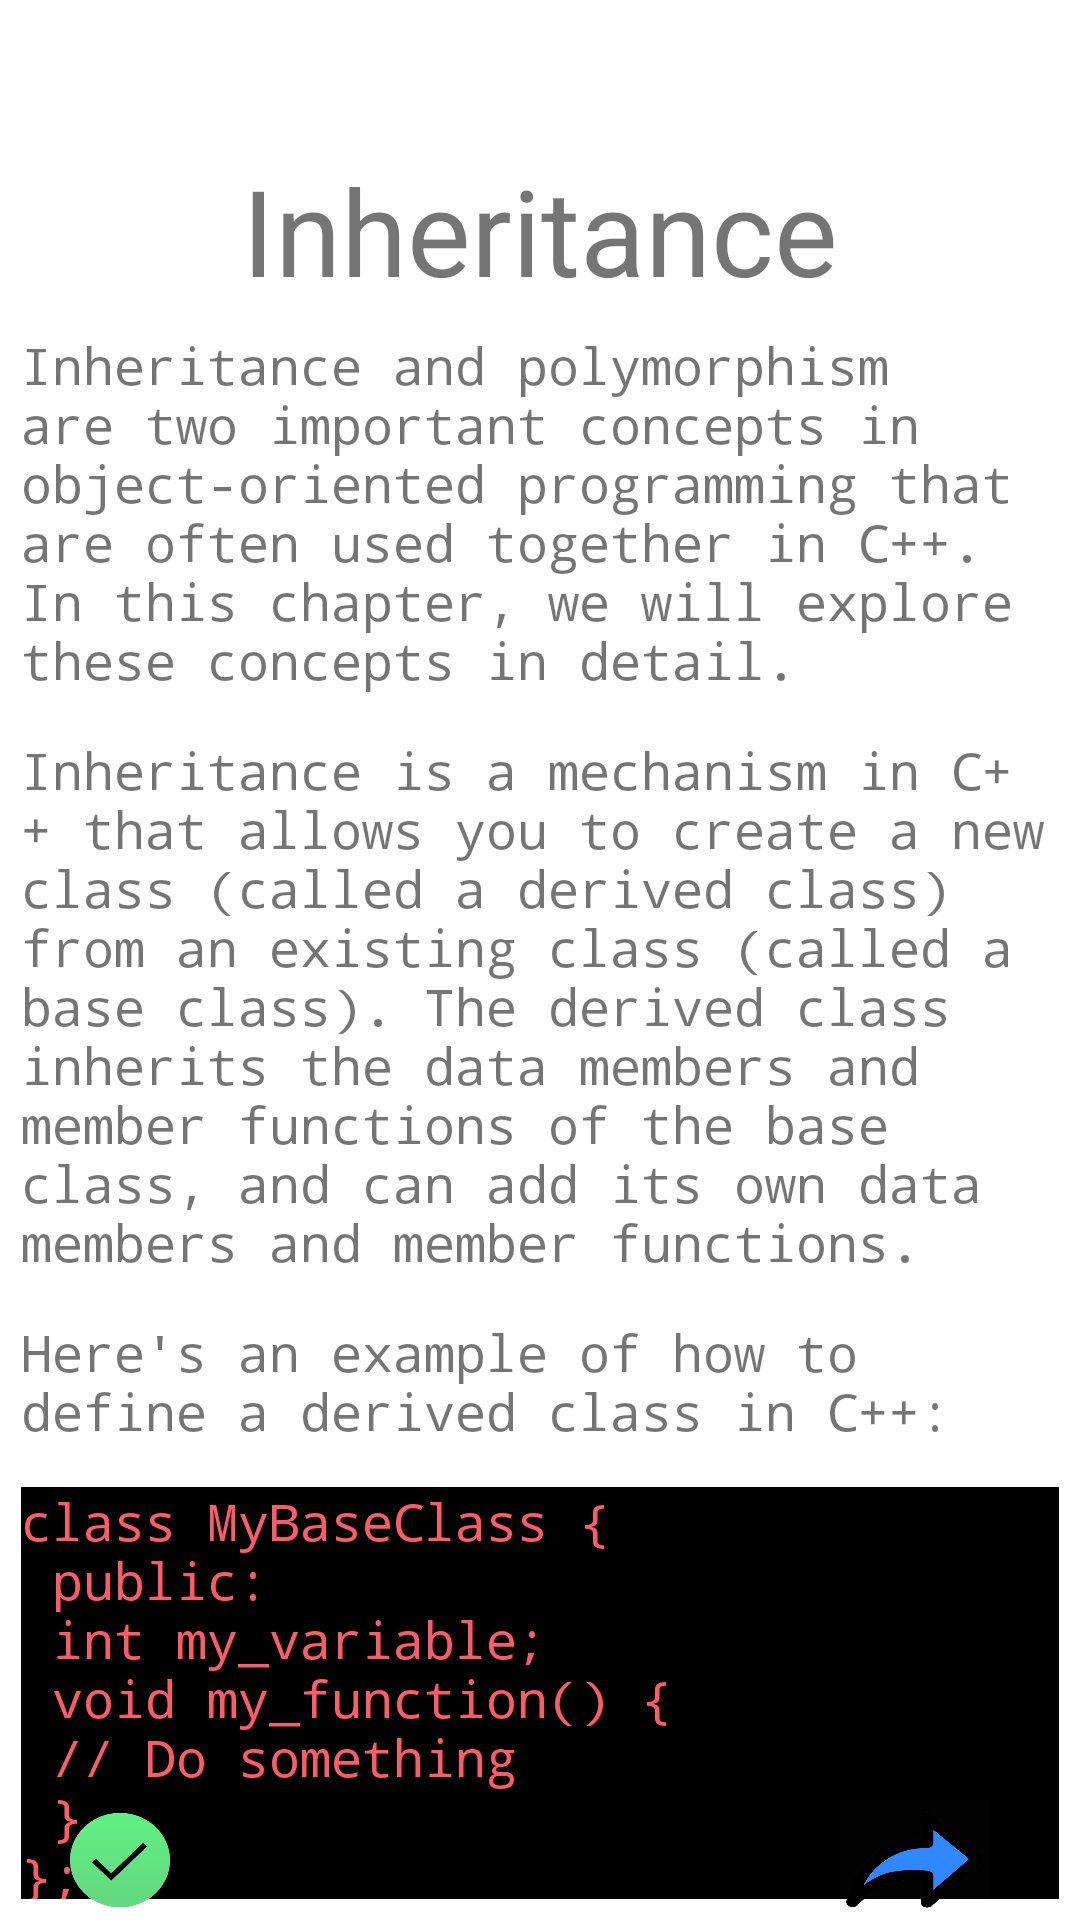

Where icons sit on this 1080*1920 app screen, as (x1, y1, x2, y2):
next: (840, 1830, 990, 1920)
